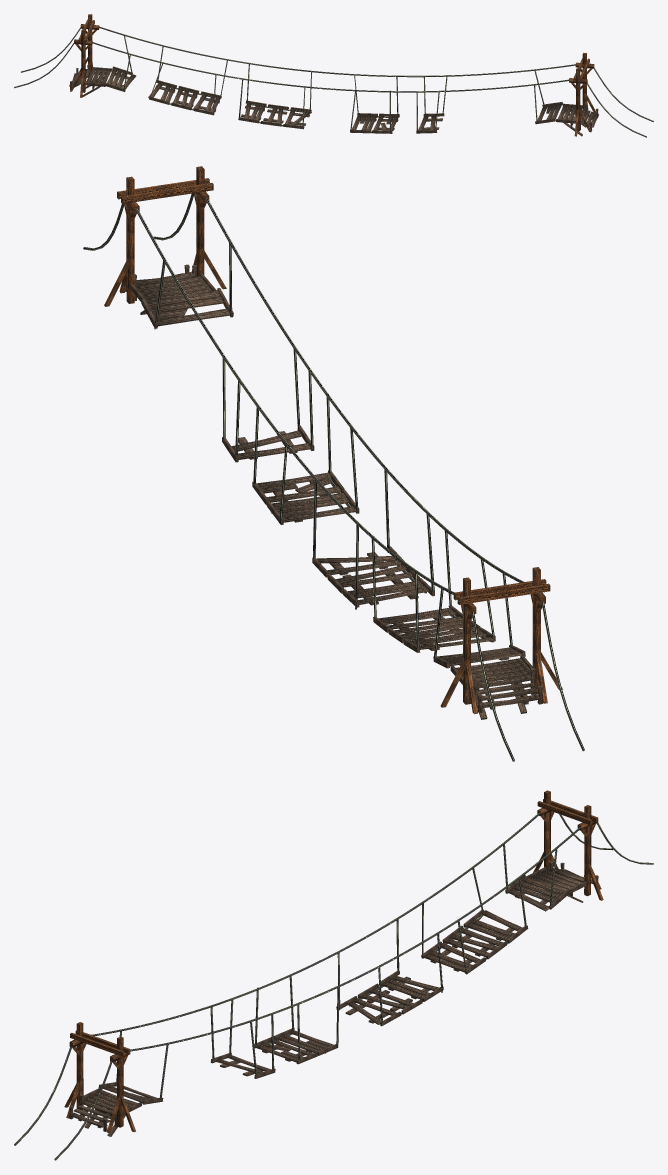
Rendered from RM_PLAYSURFACE_FINAL_RM_SUSPENSION_BRIDGE.fbx.
3 views of the same model, one above another, from view 1: azimuth 30°, elevation 25°; view 2: azimuth 150°, elevation 25°; view 3: azimuth 270°, elevation 25° (orthographic). The views are drawn at different scales.
Visible parts, largest first — view 1: RM_PLAYSURFACE_FINAL_RM_SUSPENSION_BRIDGE; view 2: RM_PLAYSURFACE_FINAL_RM_SUSPENSION_BRIDGE; view 3: RM_PLAYSURFACE_FINAL_RM_SUSPENSION_BRIDGE.
Boxes of the visible parts, x1,y1,x2,y2 form: RM_PLAYSURFACE_FINAL_RM_SUSPENSION_BRIDGE: (14,14,653,137); RM_PLAYSURFACE_FINAL_RM_SUSPENSION_BRIDGE: (83,166,584,761); RM_PLAYSURFACE_FINAL_RM_SUSPENSION_BRIDGE: (14,790,653,1160).
Bounding box in the file's own units: 378514 × 65977 × 329045.
Materials: 4 (4 with a texture image).
